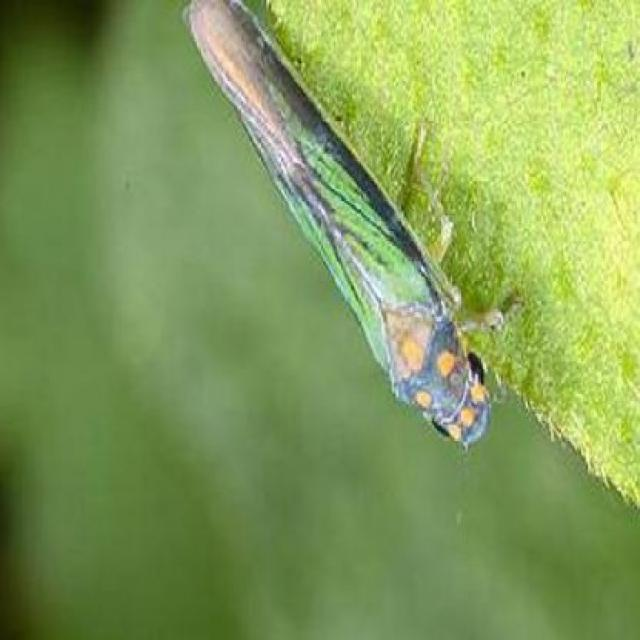green-leafhopper: (182, 0, 525, 449)
